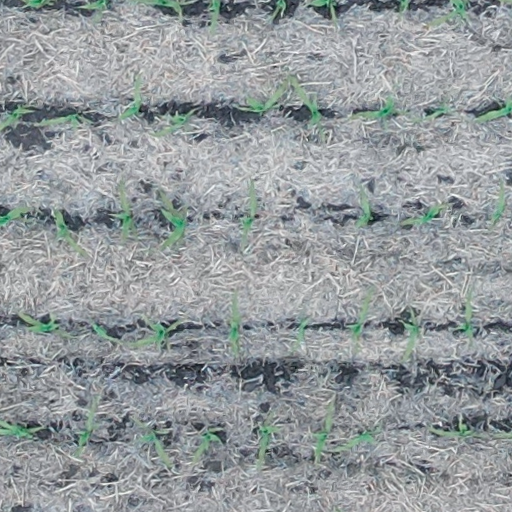planta: (285, 73, 325, 143), (348, 94, 409, 131), (131, 314, 187, 350), (343, 286, 373, 352), (236, 77, 289, 113), (134, 418, 172, 467), (107, 179, 137, 240), (159, 189, 189, 248), (305, 399, 334, 459), (51, 208, 86, 256), (18, 310, 73, 339), (74, 393, 99, 455), (238, 179, 258, 248), (190, 426, 223, 466), (452, 289, 475, 346), (256, 412, 279, 467), (396, 202, 448, 226), (116, 75, 142, 121), (36, 111, 90, 132), (153, 109, 195, 136), (429, 418, 485, 438), (225, 290, 241, 356), (336, 425, 379, 449), (398, 308, 418, 359), (411, 99, 453, 122), (352, 182, 372, 227), (489, 183, 507, 225), (90, 320, 120, 341), (292, 315, 309, 351)
